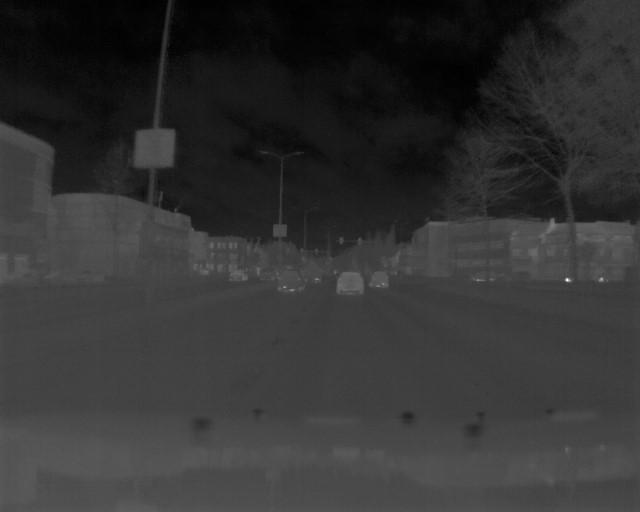car: (275, 268, 308, 296), (335, 271, 366, 295), (367, 270, 392, 290)
